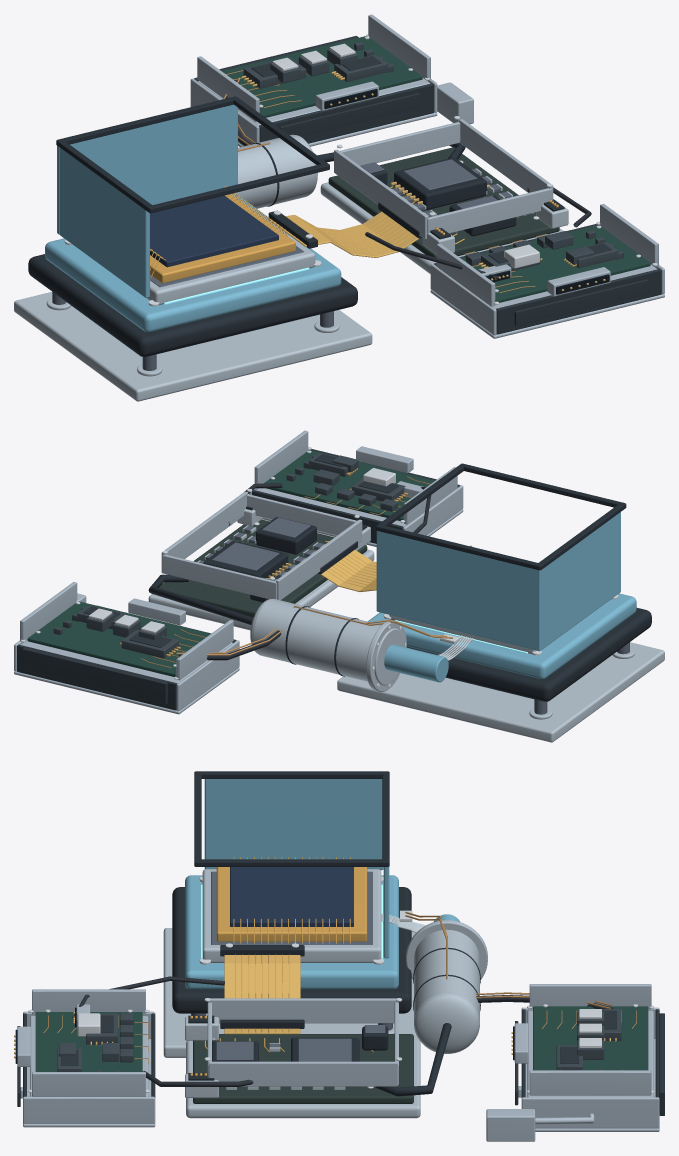
The model's file is focal-plane.glb.
3 views of the same model, one above another, from view 1: azimuth 30°, elevation 25°; view 2: azimuth 150°, elevation 25°; view 3: azimuth 270°, elevation 25° (orthographic). The views are drawn at different scales.
Visible parts, largest first — view 1: ColdShield — False-color cold stage, ColdCarrier — Machined aluminum, WarmReadout — Machined satin aluminum, ColdCarrier — Black anodized aluminum, ColdCarrier — False-color cold stage, BiasTiming — Machined satin aluminum, ThermalFeedback — Machined satin aluminum, DetectorPackage — Representative detector surface, ThermalFeedback — Anodized chassis, ColdShield — Black anodized aluminum, BiasTiming — Anodized chassis, ThermalFeedback — Midnight circuit laminate (+17 smaller); view 2: ColdShield — False-color cold stage, ColdCarrier — Machined aluminum, CoolingAssembly — Machined aluminum, WarmReadout — Machined satin aluminum, ThermalFeedback — Machined satin aluminum, ColdCarrier — False-color cold stage, BiasTiming — Machined satin aluminum, ThermalFeedback — Anodized chassis, ColdCarrier — Black anodized aluminum, ThermalFeedback — Midnight circuit laminate, ColdShield — Black anodized aluminum, WarmReadout — Black anodized aluminum (+14 smaller); view 3: ColdShield — False-color cold stage, ThermalFeedback — Machined satin aluminum, BiasTiming — Machined satin aluminum, WarmReadout — Machined satin aluminum, CoolingAssembly — Machined aluminum, DetectorPackage — Representative detector surface, WarmReadout — Warm electronics laminate, ColdCarrier — Machined aluminum, ColdCarrier — False-color cold stage, WarmReadout — Machined aluminum, ThermalFeedback — Midnight circuit laminate, ColdCarrier — Black anodized aluminum (+17 smaller).
Part boxes in pixels (x1=…): ColdShield — False-color cold stage: x1=57, y1=104, x2=237, y2=297; ColdCarrier — Machined aluminum: x1=14, y1=193, x2=372, y2=401; WarmReadout — Machined satin aluminum: x1=334, y1=119, x2=553, y2=239; ColdCarrier — Black anodized aluminum: x1=28, y1=254, x2=357, y2=356; ColdCarrier — False-color cold stage: x1=45, y1=196, x2=341, y2=332; BiasTiming — Machined satin aluminum: x1=430, y1=203, x2=664, y2=338; ThermalFeedback — Machined satin aluminum: x1=190, y1=14, x2=473, y2=147; DetectorPackage — Representative detector surface: x1=150, y1=195, x2=278, y2=267; ThermalFeedback — Anodized chassis: x1=194, y1=36, x2=433, y2=143; ColdShield — Black anodized aluminum: x1=56, y1=96, x2=329, y2=213; BiasTiming — Anodized chassis: x1=434, y1=224, x2=661, y2=334; ThermalFeedback — Midnight circuit laminate: x1=222, y1=36, x2=422, y2=117; ColdShield — False-color cold stage: x1=376, y1=512, x2=620, y2=651; ColdCarrier — Machined aluminum: x1=337, y1=615, x2=664, y2=742; CoolingAssembly — Machined aluminum: x1=250, y1=598, x2=406, y2=691; WarmReadout — Machined satin aluminum: x1=161, y1=491, x2=362, y2=600; ThermalFeedback — Machined satin aluminum: x1=14, y1=582, x2=239, y2=714; ColdCarrier — False-color cold stage: x1=368, y1=593, x2=636, y2=678; BiasTiming — Machined satin aluminum: x1=249, y1=430, x2=463, y2=546; ThermalFeedback — Anodized chassis: x1=17, y1=605, x2=236, y2=710; ColdCarrier — Black anodized aluminum: x1=406, y1=608, x2=651, y2=701; ThermalFeedback — Midnight circuit laminate: x1=27, y1=601, x2=210, y2=676; ColdShield — Black anodized aluminum: x1=376, y1=463, x2=626, y2=570; WarmReadout — Black anodized aluminum: x1=148, y1=506, x2=367, y2=624; ColdShield — False-color cold stage: x1=204, y1=779, x2=389, y2=958; ThermalFeedback — Machined satin aluminum: x1=486, y1=984, x2=659, y2=1141; BiasTiming — Machined satin aluminum: x1=17, y1=989, x2=155, y2=1127; WarmReadout — Machined satin aluminum: x1=207, y1=998, x2=398, y2=1086; CoolingAssembly — Machined aluminum: x1=406, y1=920, x2=487, y2=1053; DetectorPackage — Representative detector surface: x1=230, y1=867, x2=353, y2=926; WarmReadout — Warm electronics laminate: x1=193, y1=1034, x2=413, y2=1103; ColdCarrier — Machined aluminum: x1=163, y1=869, x2=420, y2=1057; ColdCarrier — False-color cold stage: x1=185, y1=875, x2=398, y2=989; WarmReadout — Machined aluminum: x1=185, y1=1016, x2=420, y2=1118; ThermalFeedback — Midnight circuit laminate: x1=533, y1=1006, x2=648, y2=1070; ColdCarrier — Black anodized aluminum: x1=172, y1=887, x2=411, y2=1013.
Size of the model in its own units: 5.18 by 1.77 by 5.71.
